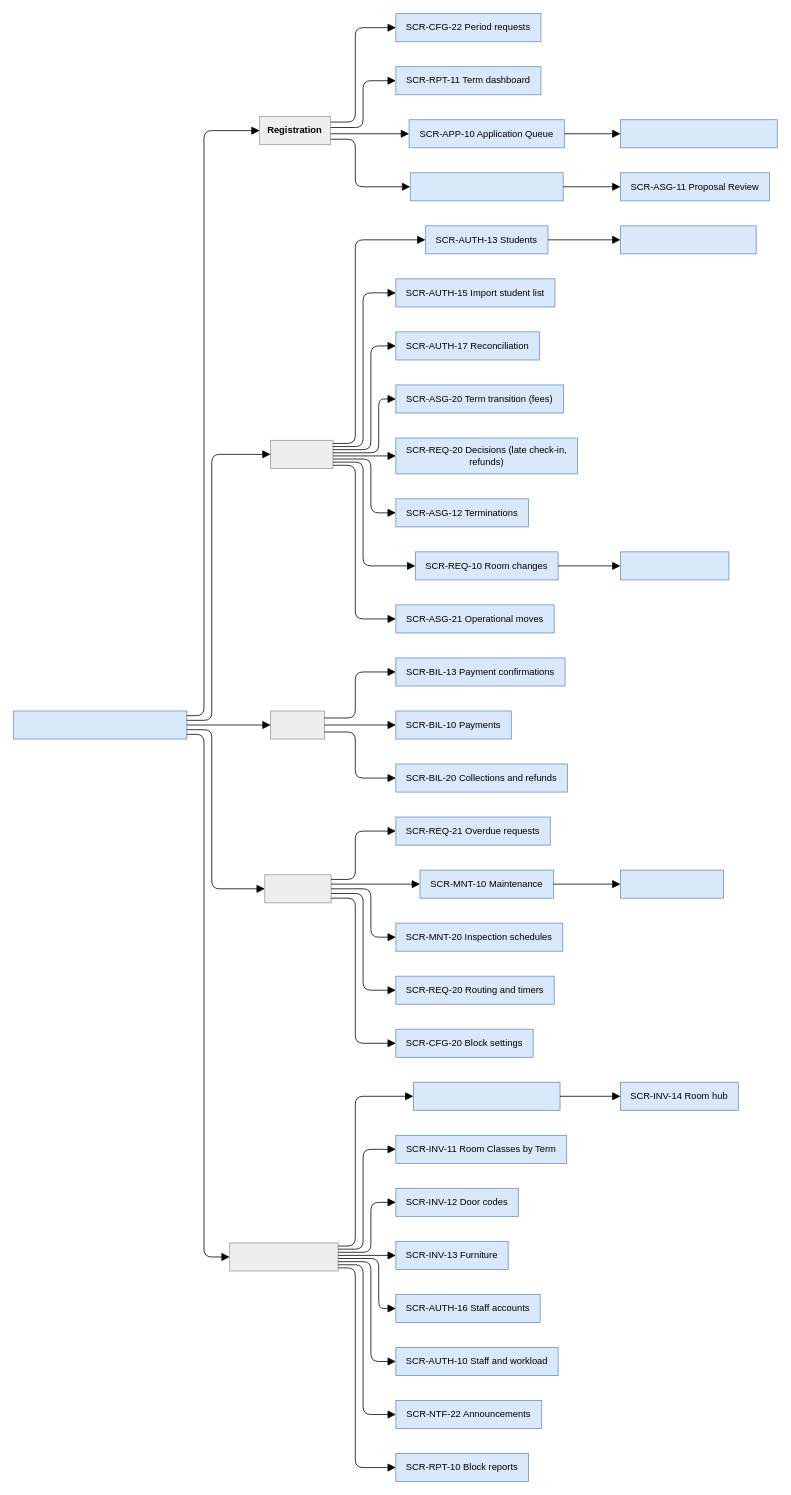
Image size: 791x1495. Some labels were removed from this diagram. Here are the shapes that lost their labels. From the top down, the centre of each, then its label:
At point 698,133: "SCR-APP-11 Application Review".
At point 486,186: "SCR-ASG-10 Assignment Runs".
At point 688,239: "SCR-AUTH-14 Student hub".
At point 301,454: "Residents".
At point 674,565: "SCR-REQ-13 Swaps".
At point 100,724: "SCR-HOME-03 Manager Dashboard".
At point 297,724: "Finance".
At point 297,888: "Operations".
At point 671,883: "SCR-MNT-11 Detail".
At point 486,1095: "SCR-INV-10 Rooms and Beds".
At point 283,1256: "Inventory and people".
